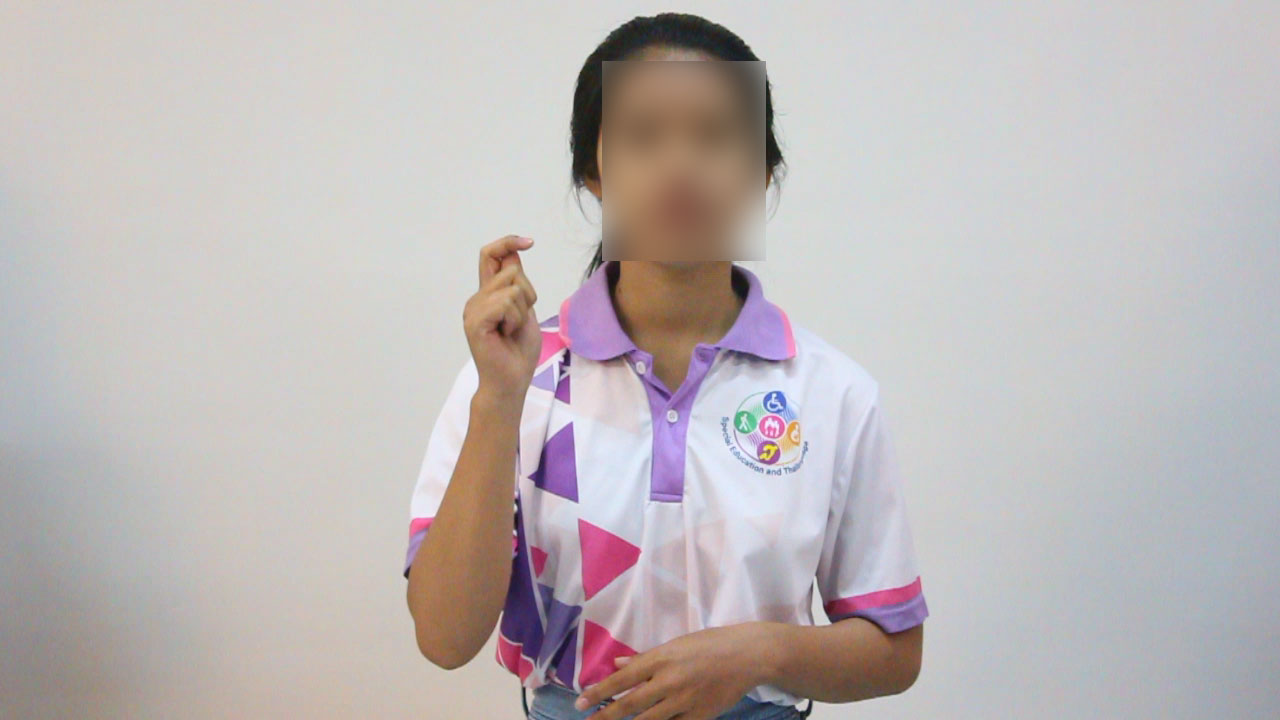or: (454, 232, 556, 406)
